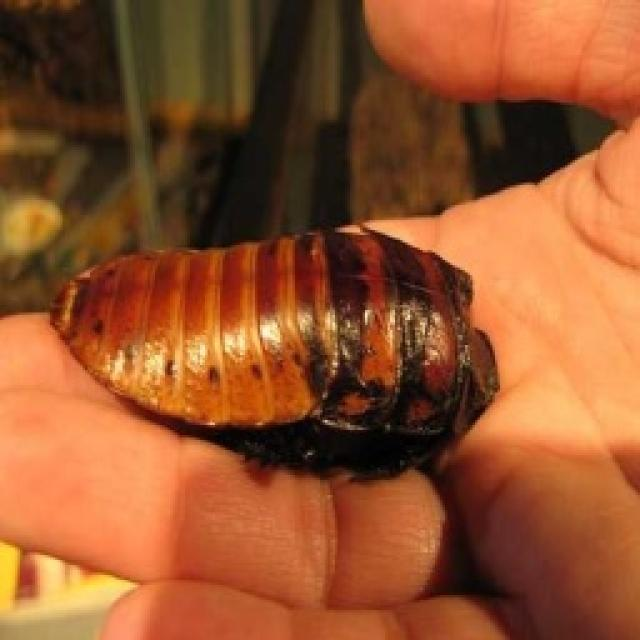cockroach: (46, 222, 505, 483)
